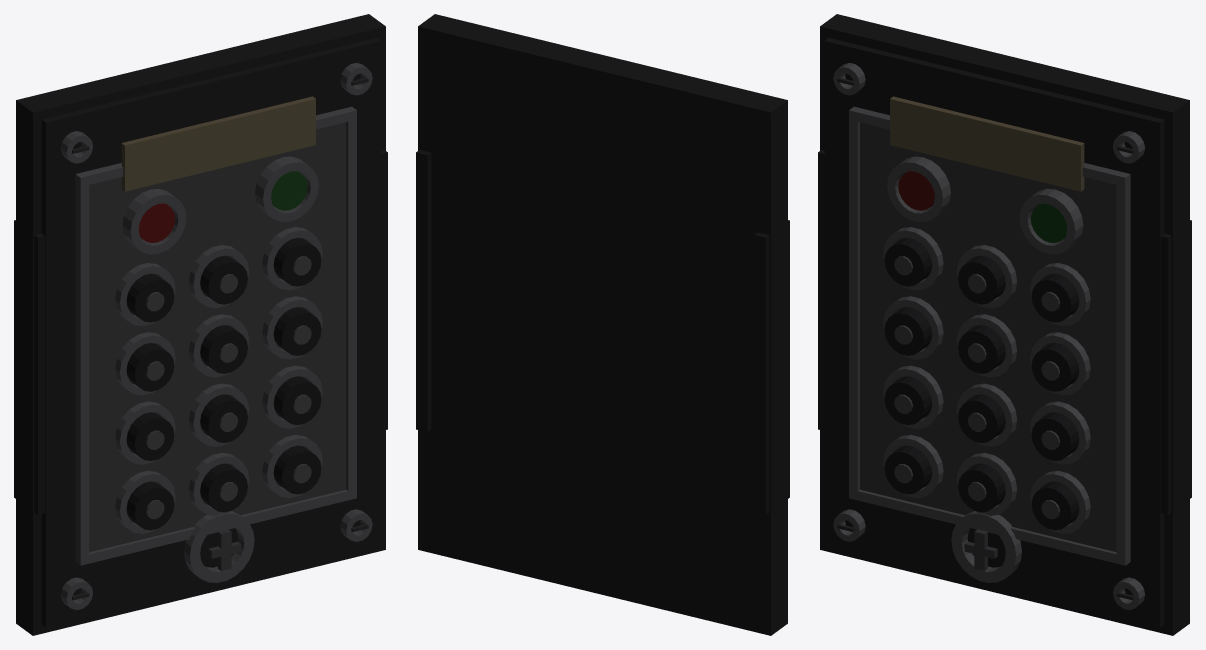
The model's file is antarctic_russian_keypad.obj.
3 views of the same model, side by side, from view 1: azimuth 30°, elevation 25°; view 2: azimuth 150°, elevation 25°; view 3: azimuth 330°, elevation 25° (orthographic).
Bounding box in the file's own units: 0.24 × 0.34 × 0.0475.
